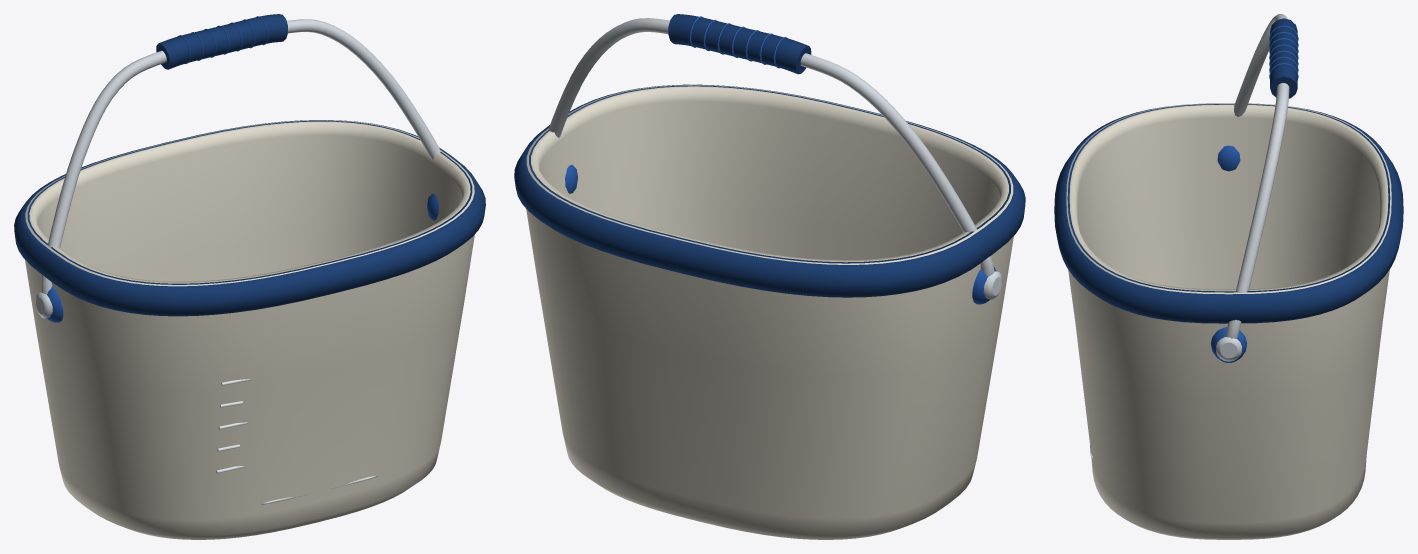
Rendered from bucket.glb.
3 renders of one model, left to right at view 1: azimuth 30°, elevation 25°; view 2: azimuth 150°, elevation 25°; view 3: azimuth 270°, elevation 25°, orthographic. The views are drawn at different scales.
Visible parts, largest first — view 1: Assembly • Warm ivory, Assembly • Deep blue, Assembly • Nickel, Assembly • Molded blue, Assembly • Oyster; view 2: Assembly • Warm ivory, Assembly • Deep blue, Assembly • Nickel, Assembly • Molded blue; view 3: Assembly • Warm ivory, Assembly • Deep blue, Assembly • Nickel, Assembly • Molded blue.
Boxes of the visible parts, left/top/right/bottom form: Assembly • Warm ivory: left=25, top=120, right=474, bottom=539; Assembly • Deep blue: left=14, top=14, right=485, bottom=316; Assembly • Nickel: left=35, top=19, right=440, bottom=318; Assembly • Molded blue: left=46, top=16, right=438, bottom=322; Assembly • Oyster: left=216, top=379, right=377, bottom=504; Assembly • Warm ivory: left=526, top=84, right=1013, bottom=539; Assembly • Deep blue: left=514, top=14, right=1025, bottom=297; Assembly • Nickel: left=548, top=18, right=1002, bottom=299; Assembly • Molded blue: left=565, top=16, right=996, bottom=304; Assembly • Warm ivory: left=1066, top=103, right=1391, bottom=539; Assembly • Deep blue: left=1054, top=18, right=1403, bottom=323; Assembly • Nickel: left=1216, top=14, right=1289, bottom=361; Assembly • Molded blue: left=1210, top=25, right=1298, bottom=362.
Bounding box in the file's own units: 0.826 × 0.8095 × 0.604.
